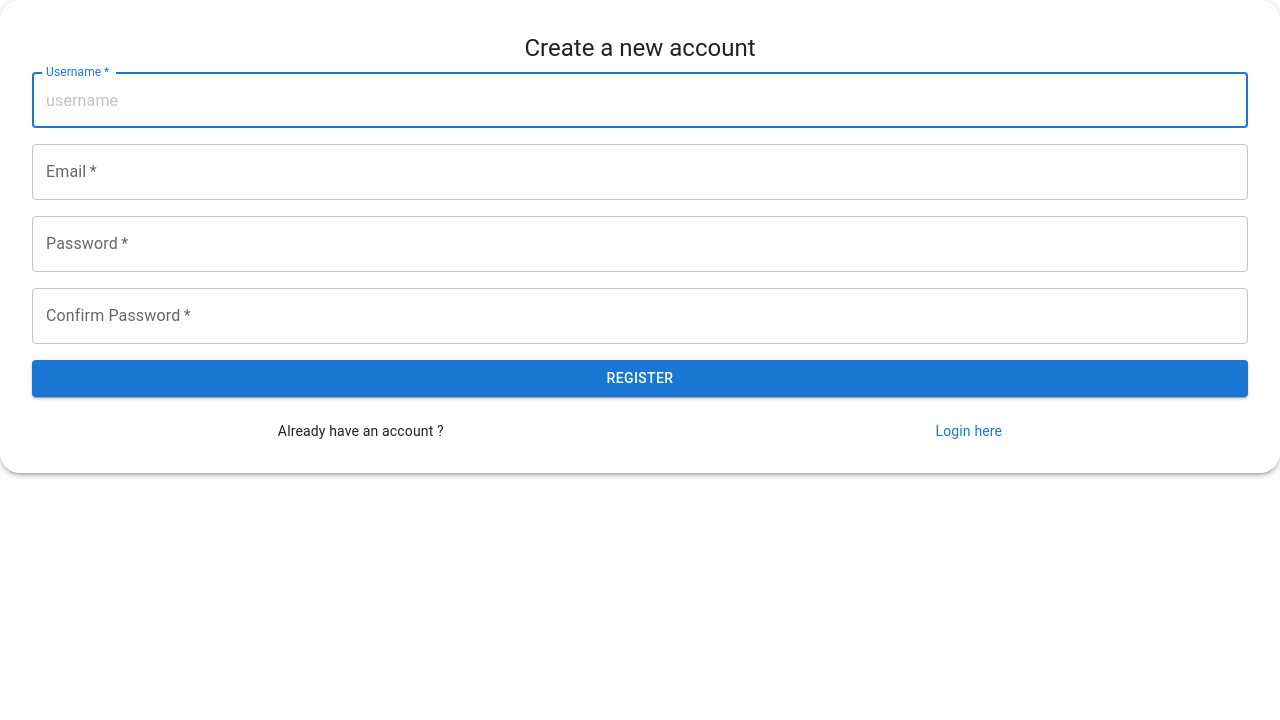
Test: LoginPage › RegisterPane › shows validation errors when fields empty
Click the button "Register": (640, 379) x1=32 y1=360 x2=1248 y2=397
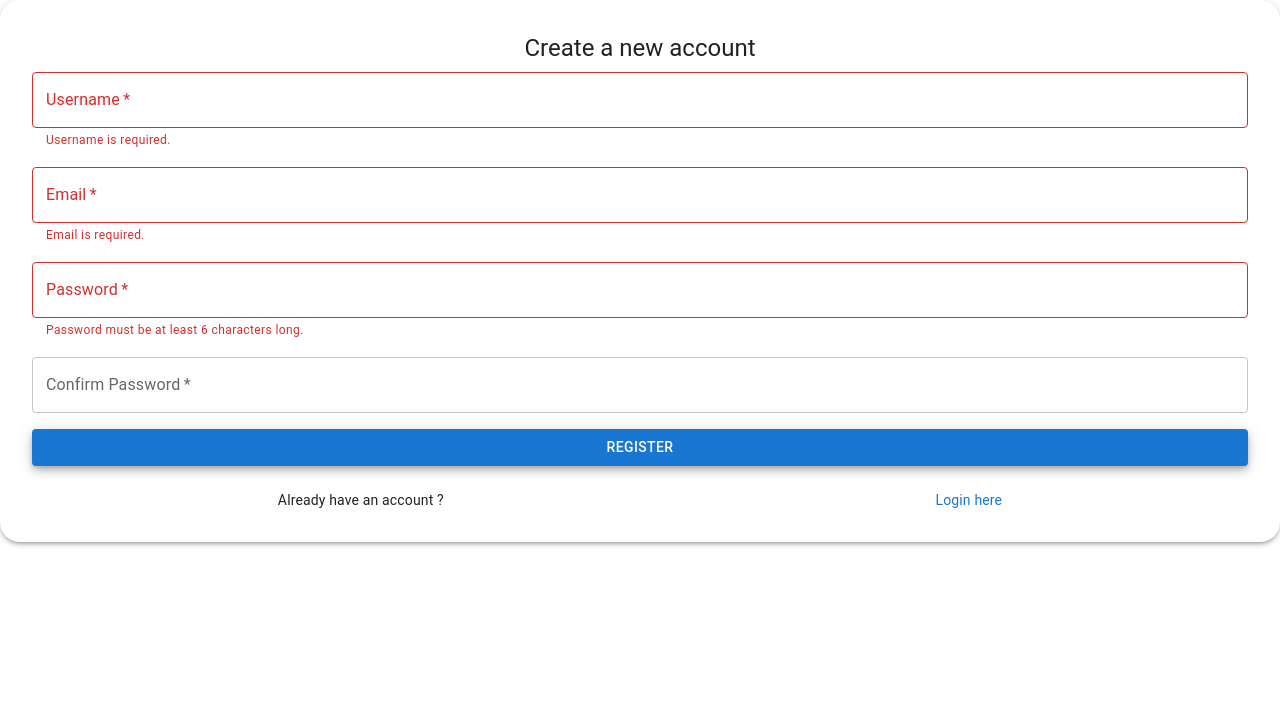
Expected: the text "Username is required." is shown, x1=46 y1=133 x2=171 y2=147
Expected: the text "Email is required." is shown, x1=46 y1=228 x2=145 y2=242
Expected: the text "Password must be at least 6 characters long." is shown, x1=46 y1=323 x2=304 y2=337
